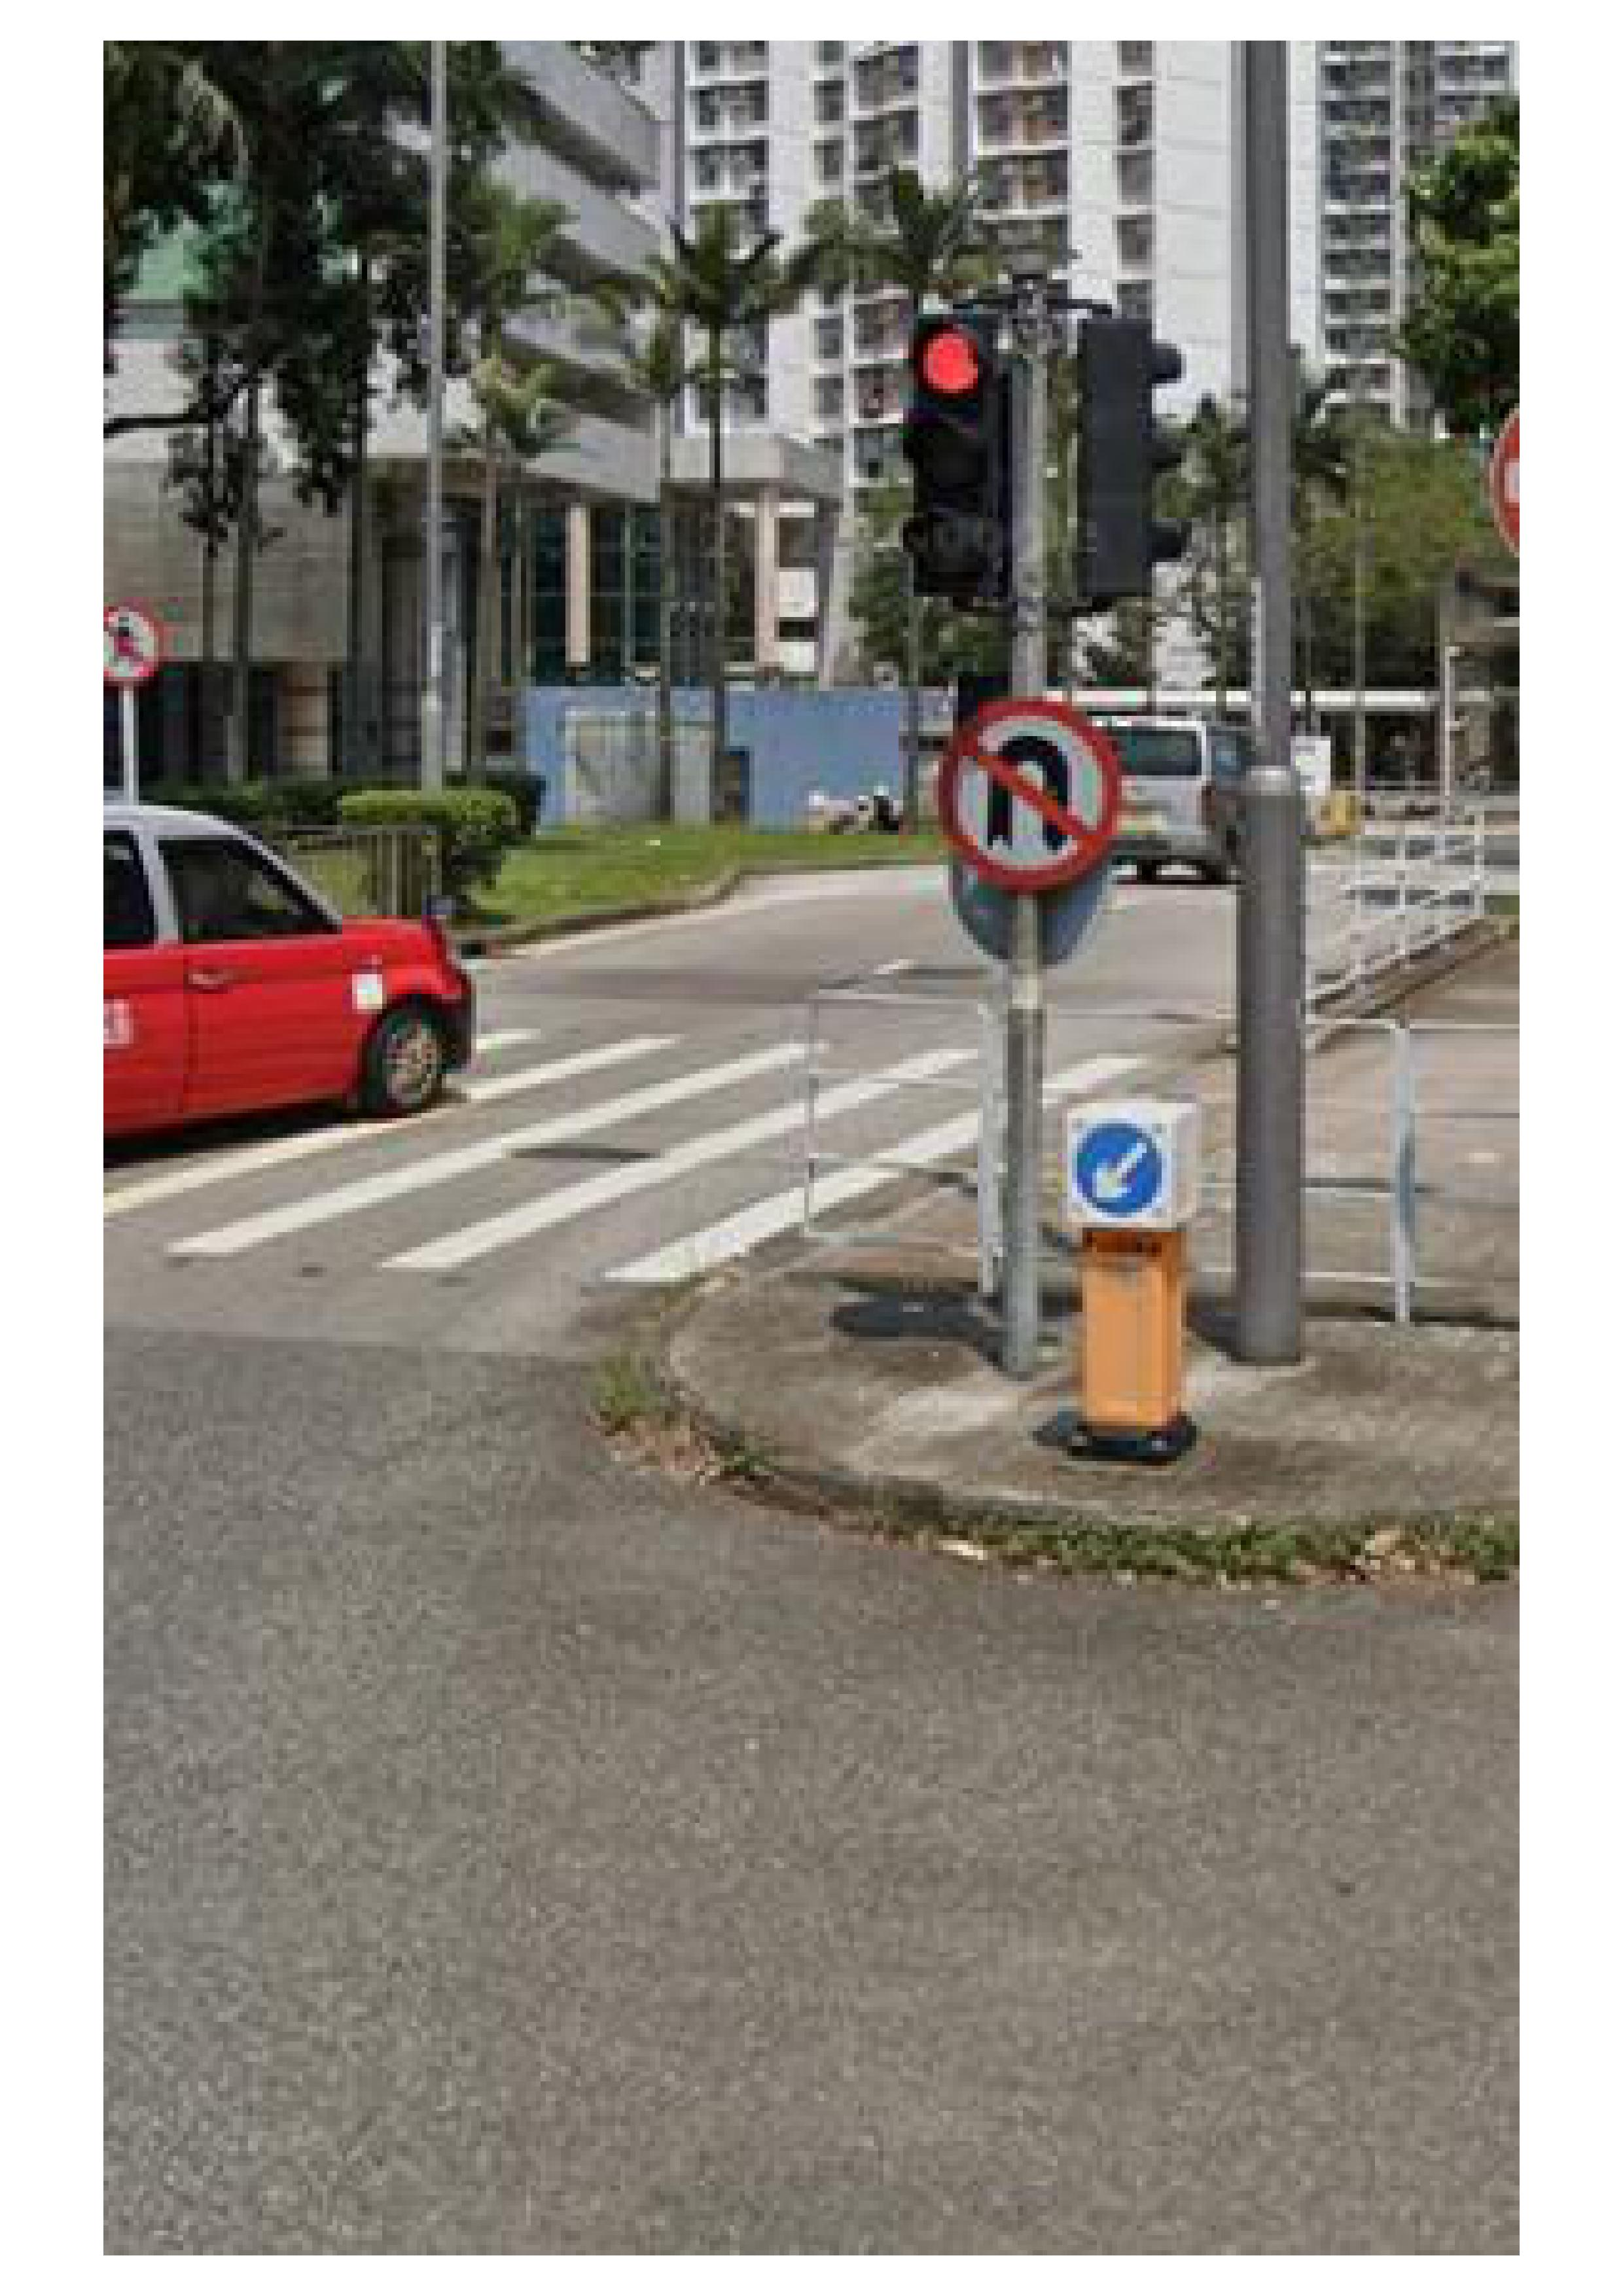No Uturn: (924, 714, 1119, 879)
